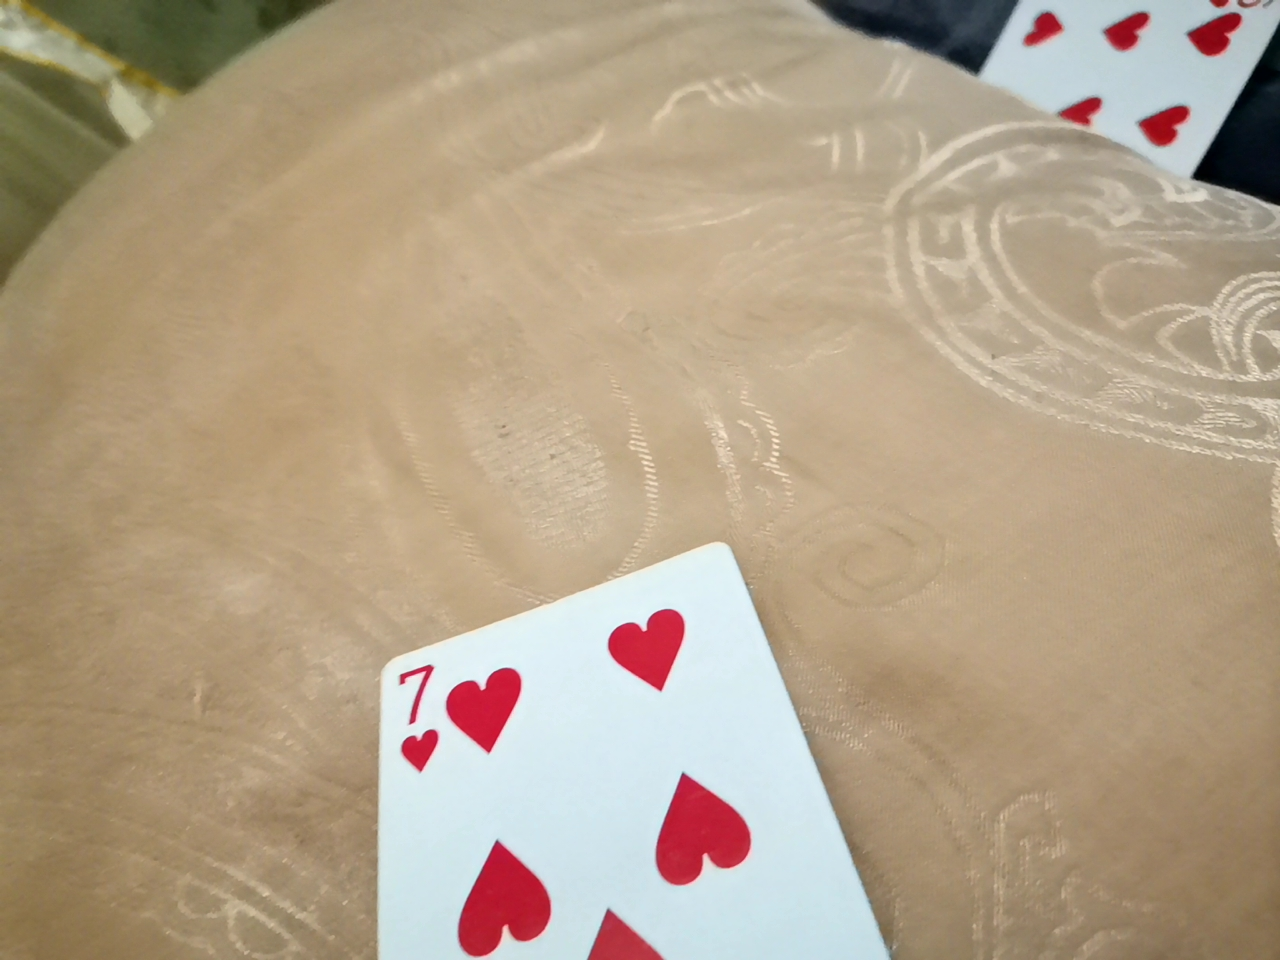hx 7: (395, 548, 943, 960)
